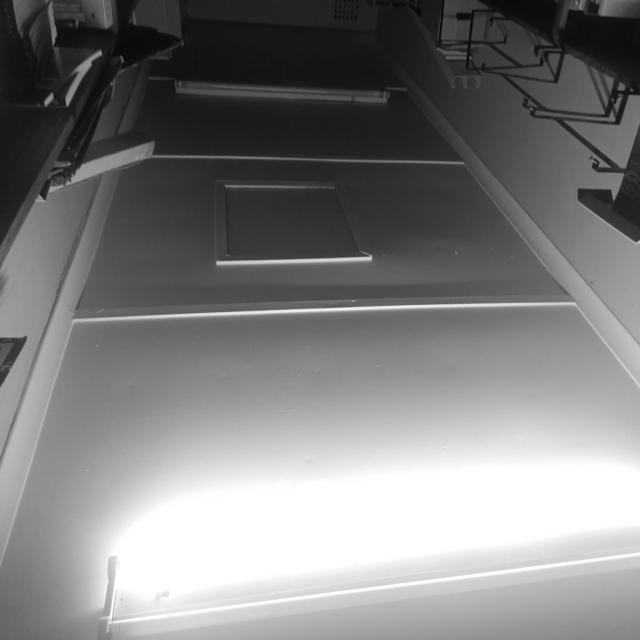light: (95, 440, 640, 608)
